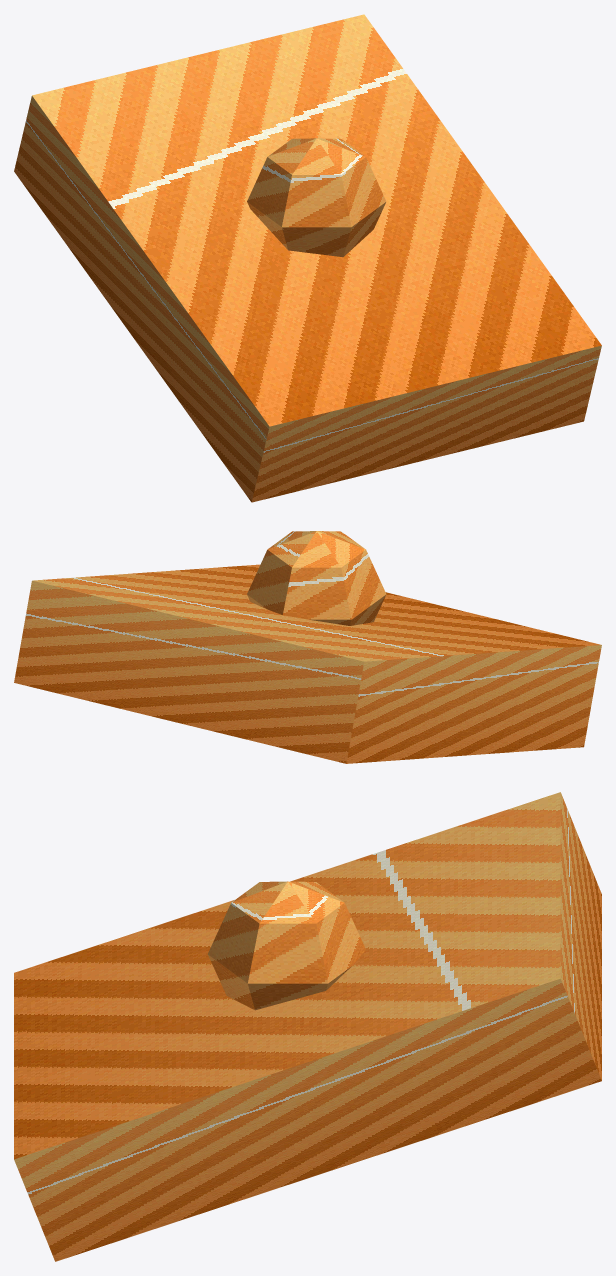
The model's file is reliquia_sagrada_06.glb.
3 renders of one model, top to bottom at view 1: azimuth 30°, elevation 25°; view 2: azimuth 150°, elevation 25°; view 3: azimuth 270°, elevation 25°, orthographic. The views are drawn at different scales.
Visible parts, largest first — view 1: reliquia_sagrada_06; view 2: reliquia_sagrada_06; view 3: reliquia_sagrada_06.
Boxes of the visible parts, x1,y1,x2,y2 form: reliquia_sagrada_06: (14, 14, 601, 502); reliquia_sagrada_06: (14, 531, 601, 763); reliquia_sagrada_06: (14, 792, 601, 1261).
Size of the model in its own units: 0.44 by 0.3158 by 0.586.
1 material, 1 textured.
